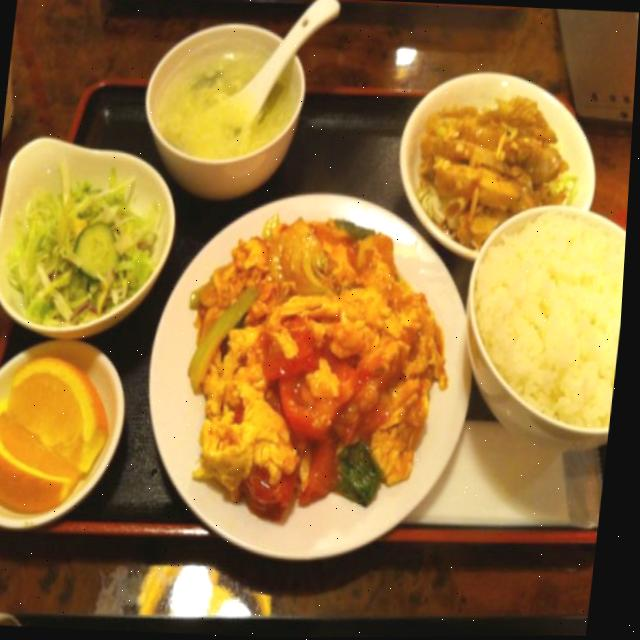汤锅炖物: (130, 6, 319, 200)
米饭主食: (448, 193, 631, 449)
蔬菜料理: (0, 137, 191, 340)
